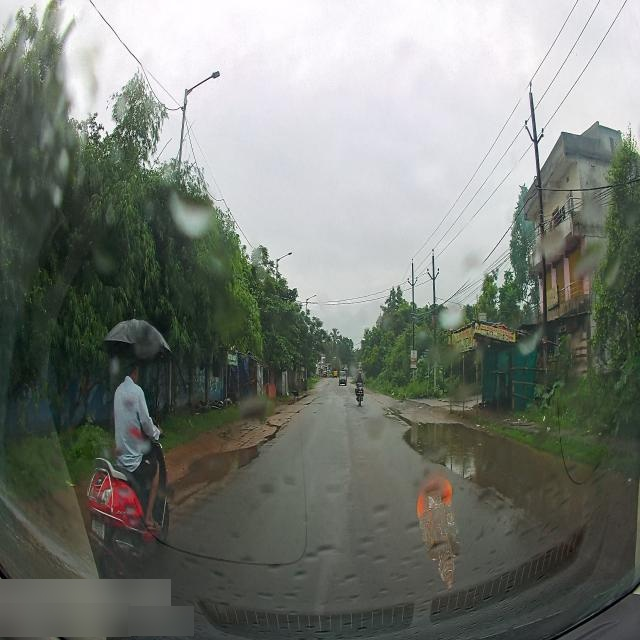pothole: (407, 430, 626, 548), (176, 443, 266, 493)
